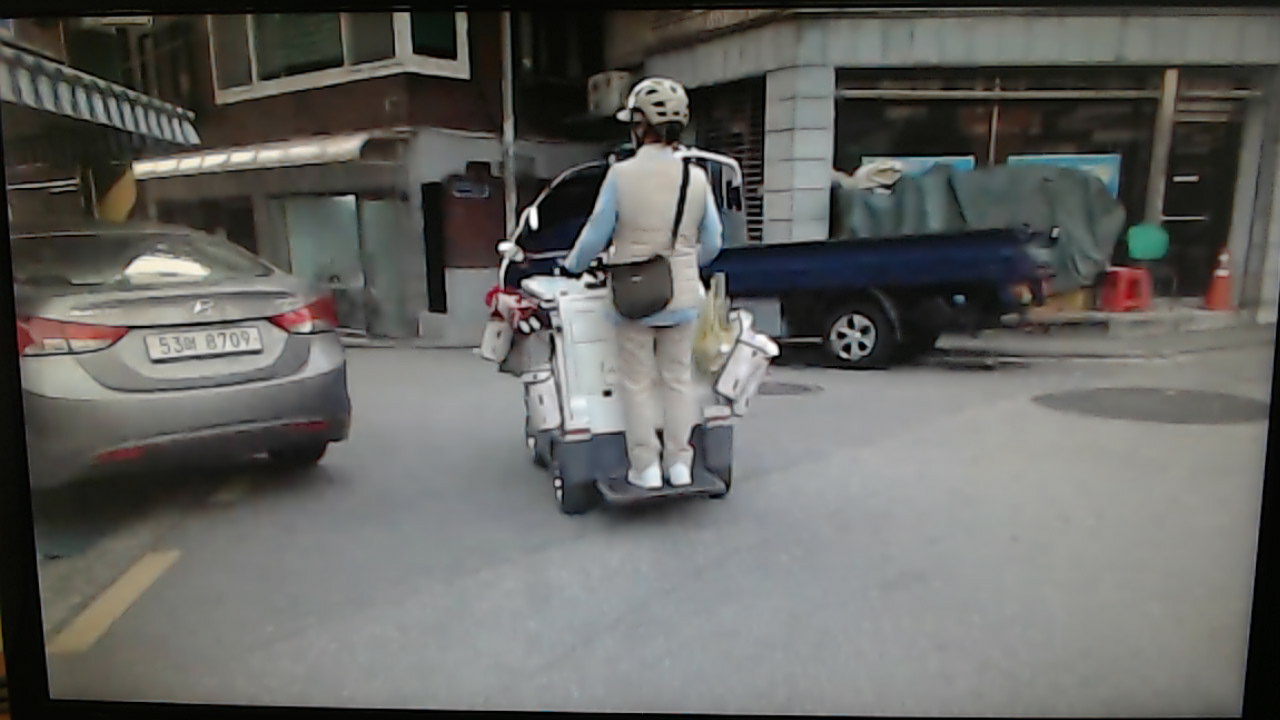Yakurut: (531, 75, 775, 510)
